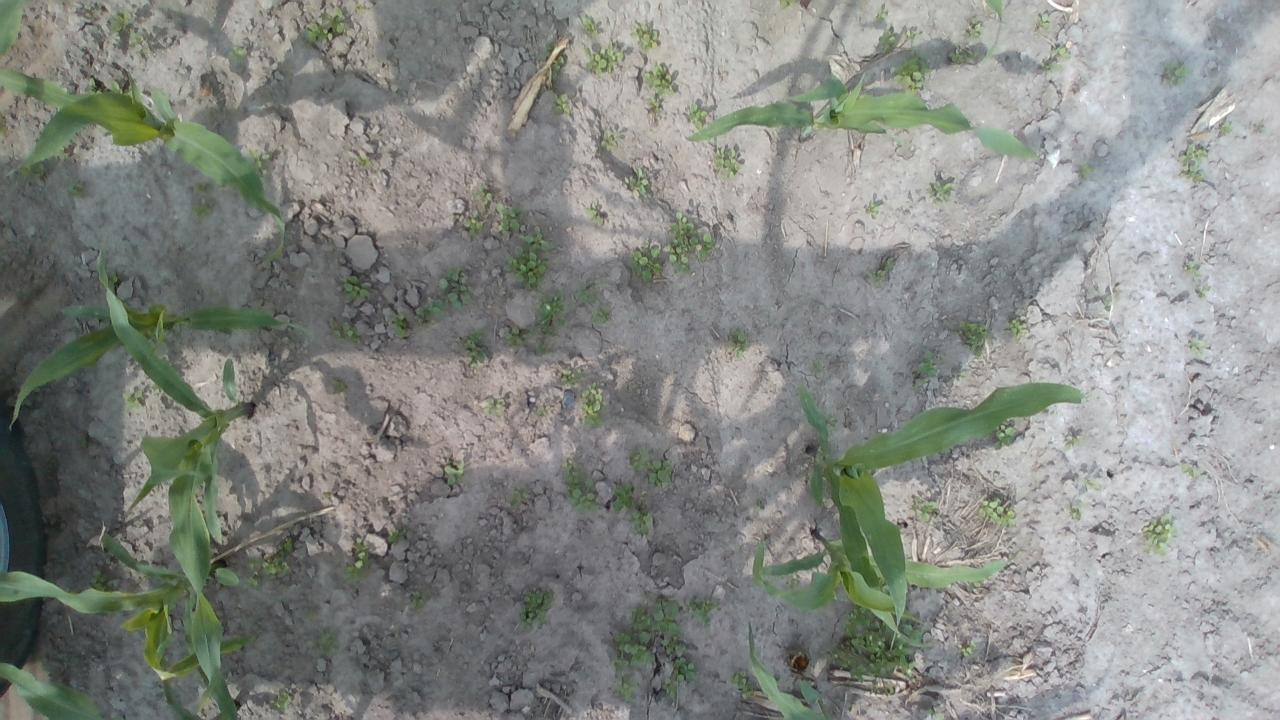Maize: (793, 374, 1087, 647), (95, 245, 257, 720), (0, 66, 288, 260), (10, 296, 326, 427), (0, 530, 236, 674), (687, 72, 1042, 162), (751, 525, 1011, 640), (0, 635, 250, 720), (802, 0, 1008, 65), (0, 0, 185, 57), (742, 620, 834, 720)
Weeds: (832, 606, 924, 682), (610, 592, 680, 675), (503, 246, 550, 291), (562, 459, 599, 514), (525, 290, 567, 338), (889, 46, 930, 95), (438, 264, 474, 312), (952, 318, 993, 359), (304, 6, 347, 44), (518, 587, 555, 630), (1144, 512, 1180, 556), (626, 243, 664, 283), (583, 40, 624, 77), (342, 536, 373, 584), (248, 557, 293, 587), (1177, 143, 1210, 182), (579, 382, 605, 429), (978, 495, 1016, 527), (682, 598, 722, 628), (462, 328, 491, 369), (640, 63, 676, 96), (306, 626, 341, 657), (246, 146, 274, 184), (519, 223, 553, 253), (714, 146, 744, 179), (629, 20, 660, 50), (866, 256, 894, 288), (328, 316, 359, 344), (916, 352, 949, 378), (340, 274, 370, 302), (725, 326, 751, 358), (646, 459, 674, 488), (730, 668, 756, 699), (624, 167, 652, 195), (684, 102, 710, 132), (612, 481, 636, 512), (672, 656, 701, 681), (994, 417, 1016, 449), (612, 676, 640, 701), (912, 494, 936, 523), (496, 202, 520, 231), (415, 300, 444, 324), (1004, 314, 1030, 340), (628, 507, 652, 535), (1163, 62, 1190, 86), (576, 278, 600, 304), (107, 7, 131, 32), (88, 568, 113, 592), (121, 389, 147, 412), (444, 459, 466, 486), (928, 180, 954, 202), (462, 210, 484, 236), (20, 162, 50, 181), (550, 92, 574, 115), (508, 484, 530, 509), (628, 445, 650, 470), (877, 28, 898, 54), (391, 312, 412, 338), (472, 184, 493, 209), (963, 15, 984, 39), (191, 198, 215, 219), (949, 48, 980, 64), (274, 690, 296, 712), (482, 398, 506, 418), (1180, 461, 1206, 479), (584, 203, 604, 226), (502, 325, 523, 346), (1188, 336, 1208, 358), (109, 79, 132, 98), (560, 367, 583, 386), (599, 130, 623, 148), (82, 75, 102, 96), (1052, 43, 1074, 62), (582, 16, 600, 38), (864, 198, 882, 220), (408, 591, 428, 610), (354, 152, 376, 169), (590, 305, 609, 324), (644, 95, 662, 115), (1182, 259, 1202, 277), (68, 180, 86, 200), (1063, 434, 1085, 450), (662, 676, 678, 698), (550, 54, 564, 79), (1218, 120, 1236, 139), (1070, 500, 1088, 519), (226, 46, 246, 63), (958, 640, 978, 657), (1038, 58, 1062, 72), (387, 528, 408, 544), (1033, 11, 1050, 30), (128, 30, 148, 46), (1080, 162, 1096, 182), (824, 413, 842, 430), (876, 577, 892, 596), (1081, 476, 1101, 490), (278, 536, 294, 553), (54, 145, 71, 161), (330, 378, 347, 393), (778, 0, 801, 11), (106, 268, 120, 286), (534, 343, 552, 357), (875, 5, 888, 24), (925, 708, 945, 720), (1196, 284, 1212, 298), (192, 179, 210, 191), (966, 580, 982, 593), (811, 359, 824, 374), (300, 610, 317, 621), (755, 496, 769, 509), (788, 575, 802, 588), (544, 41, 556, 56), (772, 672, 784, 686), (1104, 294, 1114, 310), (78, 435, 90, 448), (955, 371, 968, 380), (0, 116, 5, 138), (906, 29, 916, 39), (538, 406, 548, 415), (150, 382, 159, 391)
